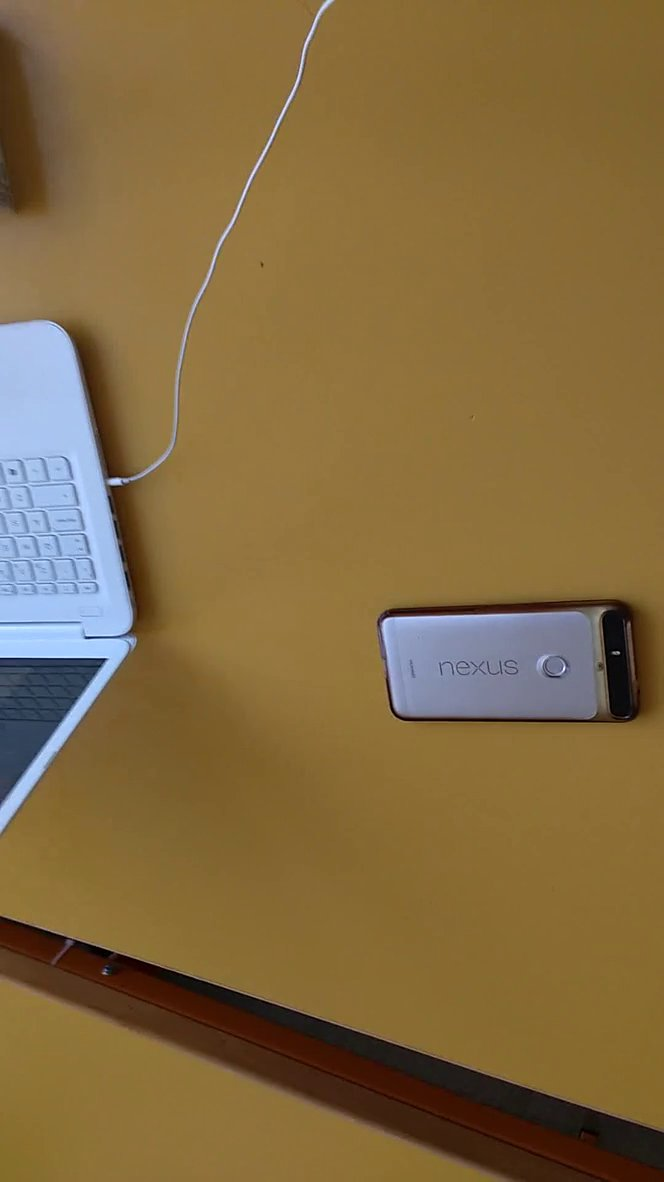phone: (371, 587, 651, 751)
